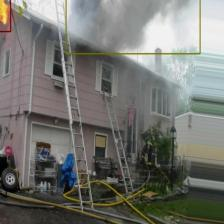fire: (0, 0, 11, 31)
smoke: (66, 0, 200, 54)
